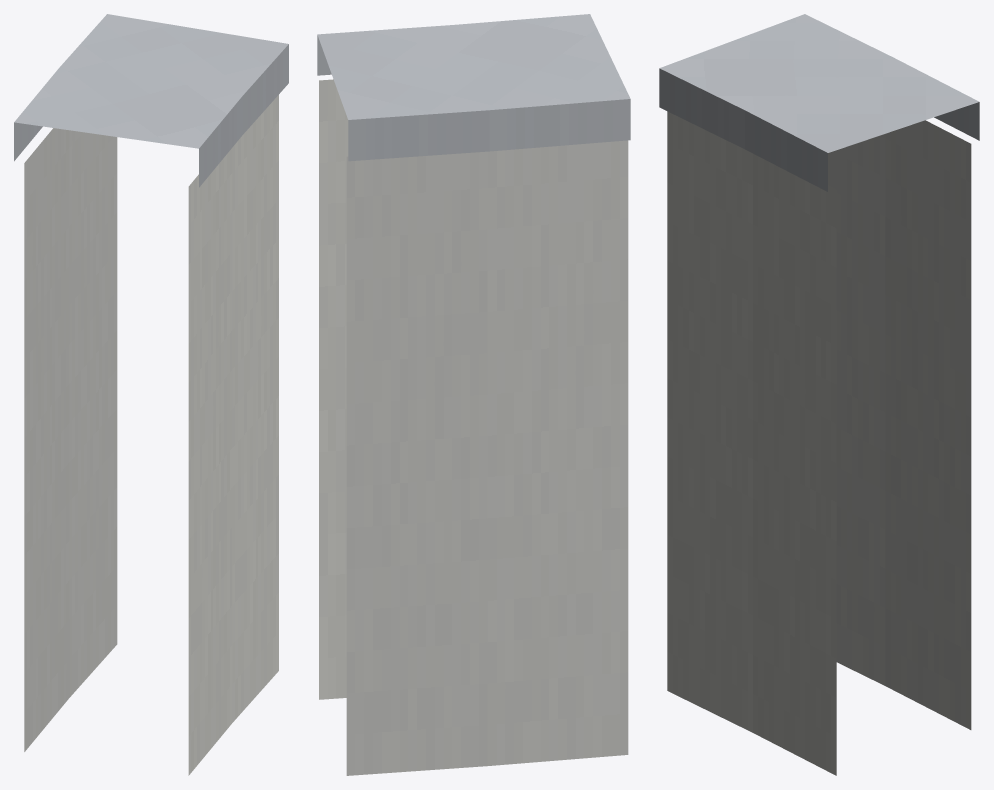
Rendered from curve_board_08.obj.
The picture shows the model from 3 angles, left to right: view 1: azimuth 30°, elevation 25°; view 2: azimuth 150°, elevation 25°; view 3: azimuth 270°, elevation 25°; orthographic projection. The views are drawn at different scales.
Visible parts, largest first — view 1: curve_board_08; view 2: curve_board_08; view 3: curve_board_08.
Boxes of the visible parts, box(x1,y1,x2,y2) form: curve_board_08: box(14, 14, 288, 775); curve_board_08: box(317, 14, 630, 775); curve_board_08: box(659, 14, 979, 775).
Size of the model in its own units: 0.477 by 1 by 0.4641.
